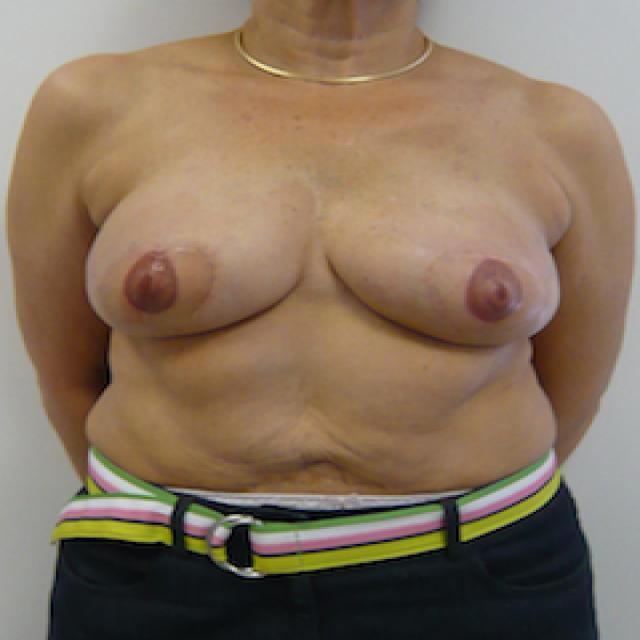Seno herido: (321, 158, 571, 361), (74, 158, 315, 361)
